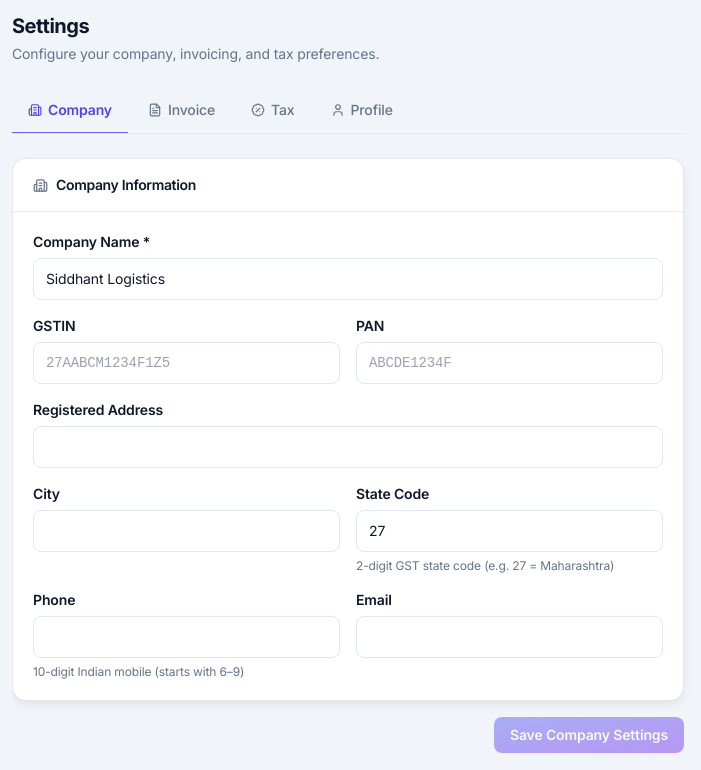
Test case: SettingsPage › Profile tab shows security section
This screenshot has width=701, height=770.
Click the button "Profile": coordinates (362, 111) [314,88,409,134]
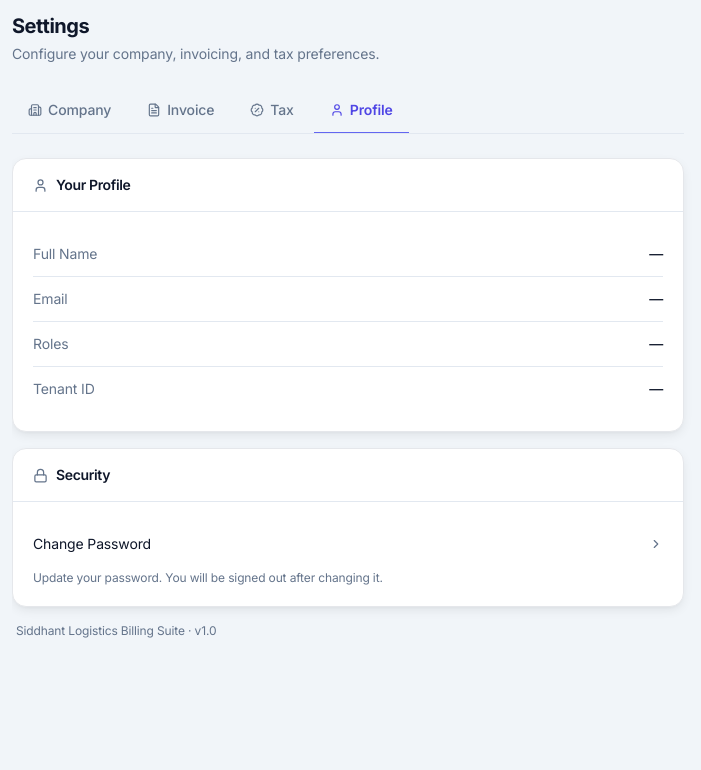
Now the heading "Security" is shown, box [56,465,110,485]
